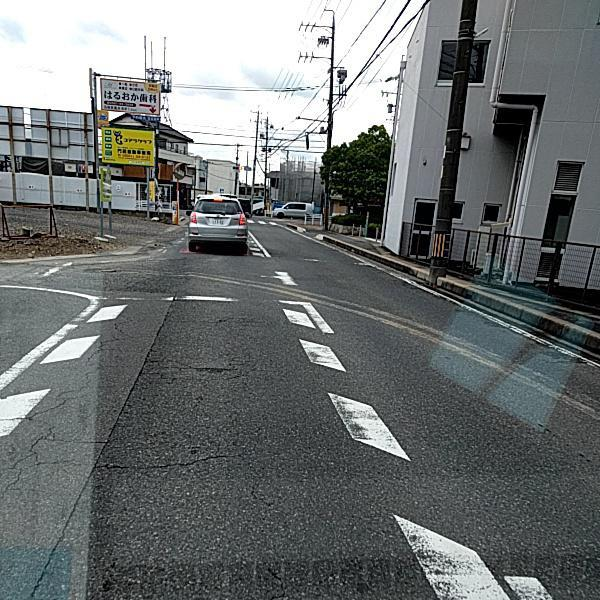D10: (91, 445, 236, 474)
D20: (0, 312, 137, 502), (153, 354, 235, 385)
D44: (269, 287, 511, 599)
